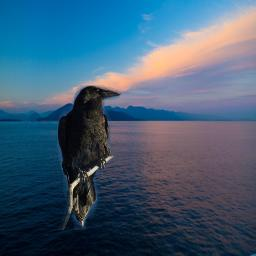Crow: (57, 85, 122, 230)
